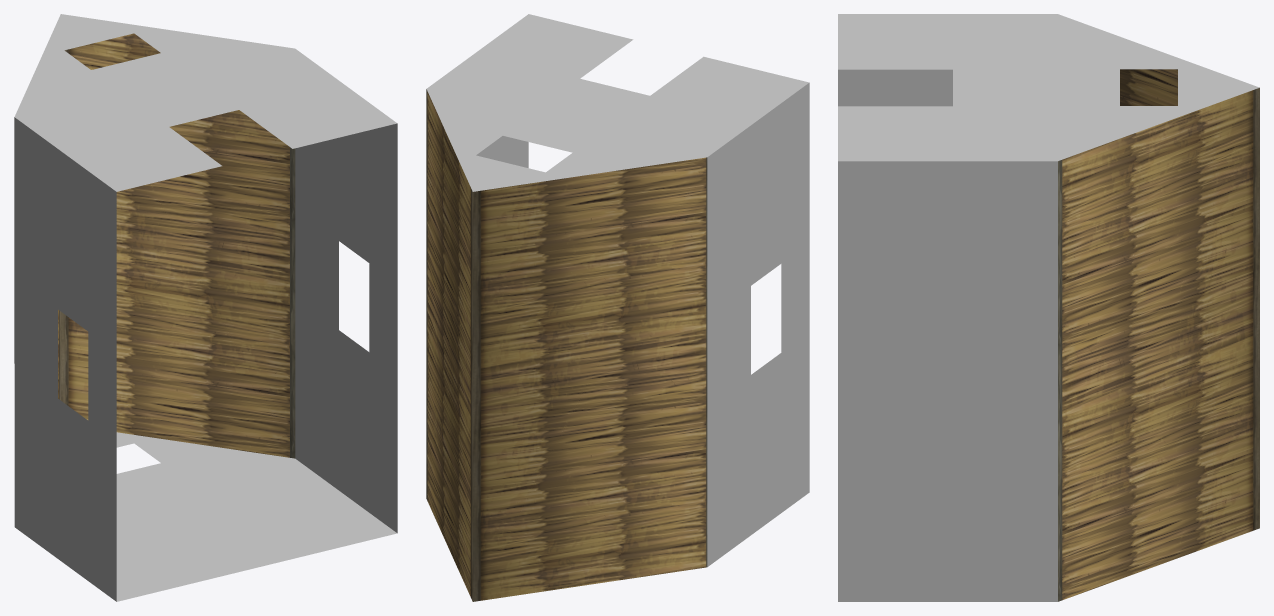
The model's file is Pirate_House_Interior_Type01_A.fbx.
3 views of the same model, side by side, from view 1: azimuth 30°, elevation 25°; view 2: azimuth 150°, elevation 25°; view 3: azimuth 270°, elevation 25° (orthographic). The views are drawn at different scales.
Parts seen in each view (by area): view 1: Pirate_House_Interior_Type01_A; view 2: Pirate_House_Interior_Type01_A; view 3: Pirate_House_Interior_Type01_A.
Part boxes in pixels (bbox=[...]): Pirate_House_Interior_Type01_A: bbox=[14, 14, 397, 601]; Pirate_House_Interior_Type01_A: bbox=[426, 14, 809, 601]; Pirate_House_Interior_Type01_A: bbox=[838, 14, 1259, 601].
Bounding box in the file's own units: 6.41 × 8.95 × 7.76.
